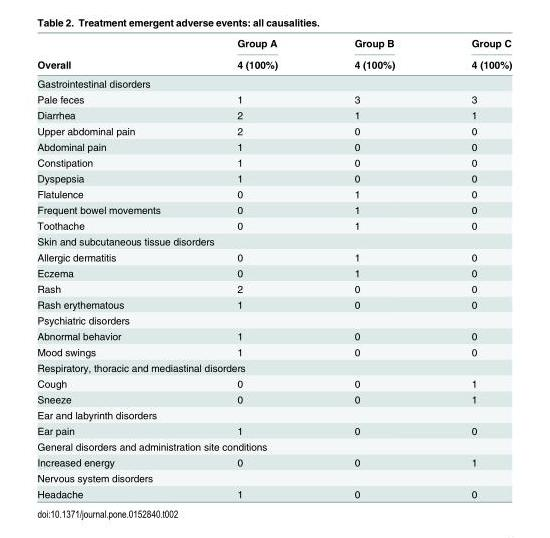table: (36, 36, 511, 499)
table column: (36, 36, 198, 499), (198, 36, 315, 499), (315, 36, 432, 499), (432, 36, 511, 499)
table column header: (36, 36, 511, 73)
table projected row header: (36, 73, 511, 91), (36, 359, 511, 375), (36, 406, 511, 422), (36, 438, 511, 454), (36, 469, 511, 485), (36, 233, 511, 248), (36, 312, 511, 327)
table row: (36, 53, 511, 73), (36, 73, 511, 91), (36, 36, 511, 53), (36, 106, 511, 122), (36, 122, 511, 138), (36, 138, 511, 154), (36, 154, 511, 170), (36, 185, 511, 201), (36, 201, 511, 217), (36, 217, 511, 233), (36, 248, 511, 264), (36, 264, 511, 280), (36, 280, 511, 296), (36, 296, 511, 312), (36, 327, 511, 343), (36, 343, 511, 359), (36, 359, 511, 375), (36, 390, 511, 406), (36, 406, 511, 422), (36, 422, 511, 438), (36, 438, 511, 454), (36, 469, 511, 485), (36, 91, 511, 106), (36, 170, 511, 185), (36, 233, 511, 248), (36, 312, 511, 327), (36, 375, 511, 390), (36, 454, 511, 469), (36, 485, 511, 499)
table spanning cell: (36, 36, 198, 73), (198, 36, 315, 73), (315, 36, 432, 73), (432, 36, 511, 73)
